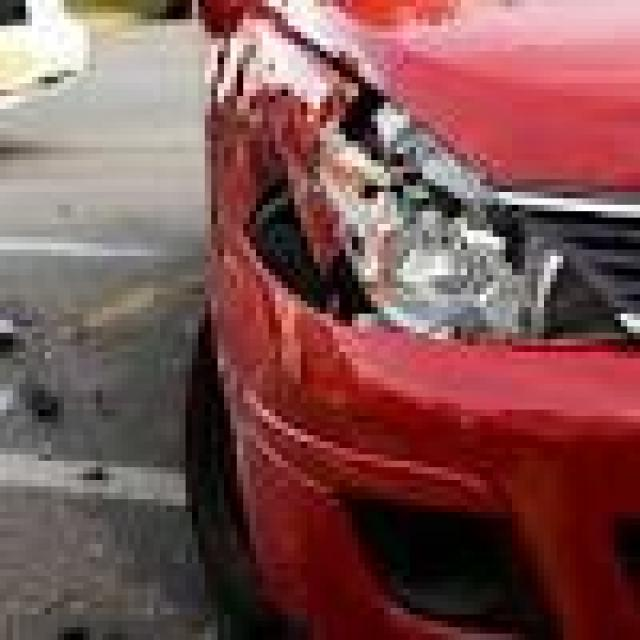minor: (188, 36, 533, 468)
